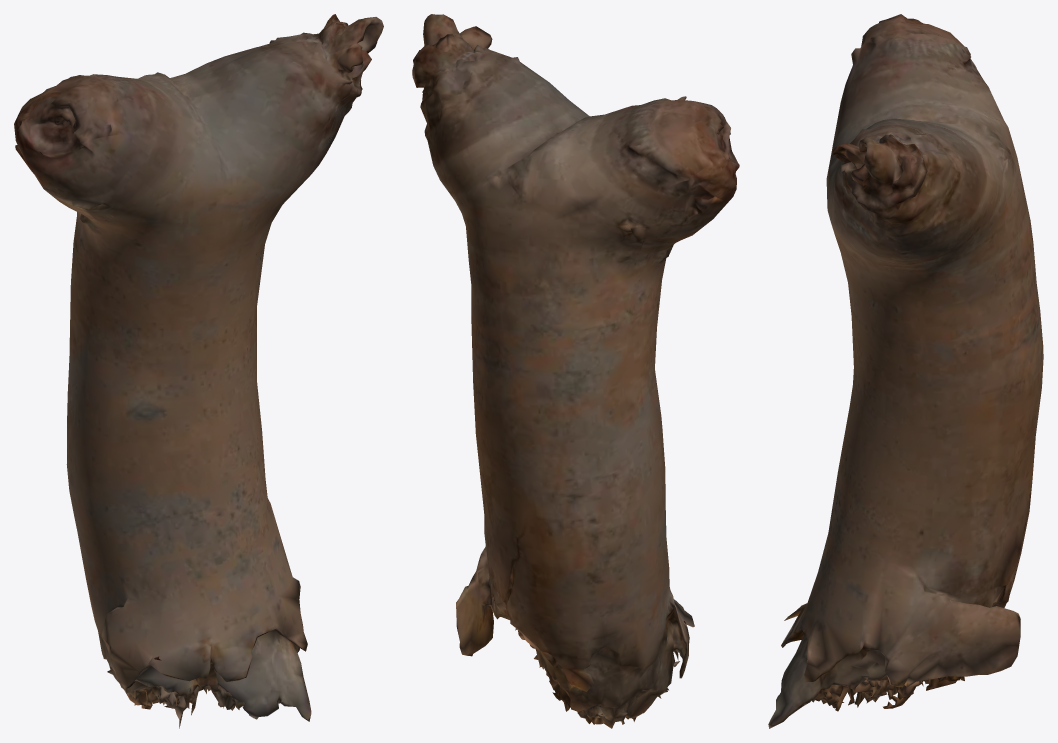
Rendered from dead_quiver_branch_02.glb.
3 views of the same model, side by side, from view 1: azimuth 30°, elevation 25°; view 2: azimuth 150°, elevation 25°; view 3: azimuth 270°, elevation 25° (orthographic).
Parts seen in each view (by area): view 1: dead_quiver_branch_02; view 2: dead_quiver_branch_02; view 3: dead_quiver_branch_02.
Part boxes in pixels (x1,y1,x2,y2): dead_quiver_branch_02: (14,14,383,728); dead_quiver_branch_02: (412,14,739,728); dead_quiver_branch_02: (768,14,1043,728).
Size of the model in its own units: 0.2873 by 0.5264 by 0.201.
1 material, 1 textured.
